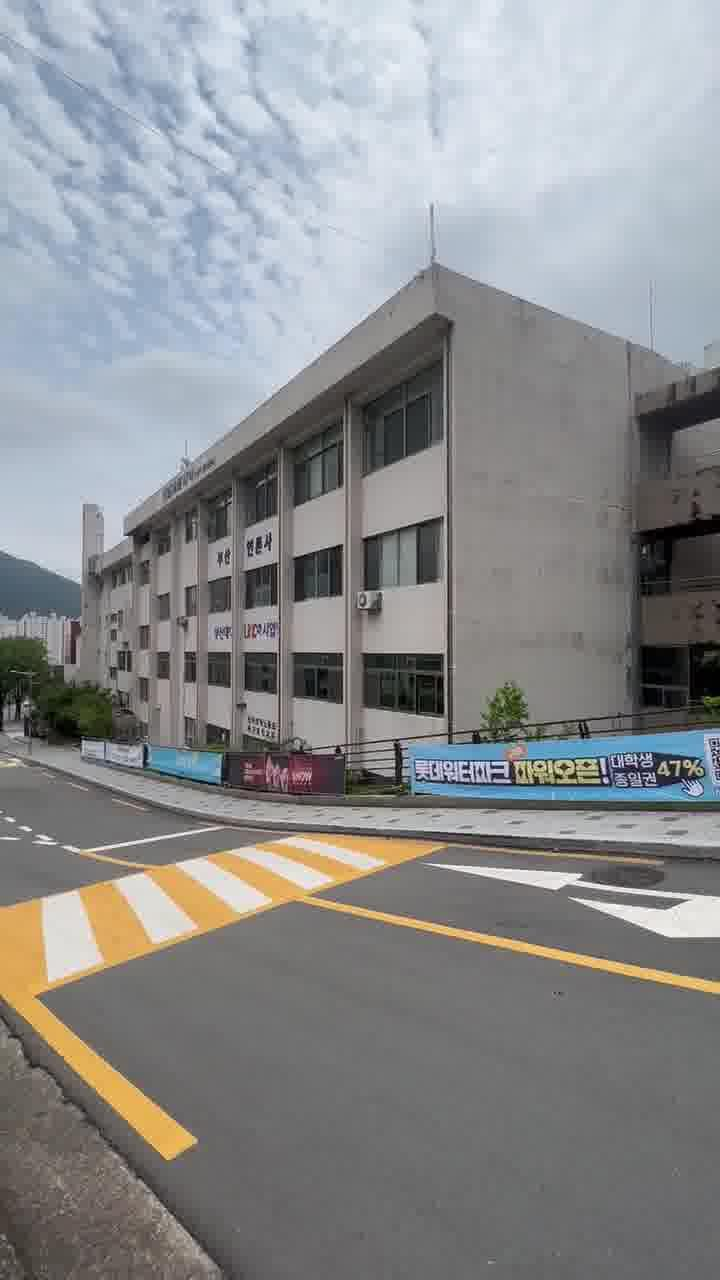building: (80, 324, 642, 726)
